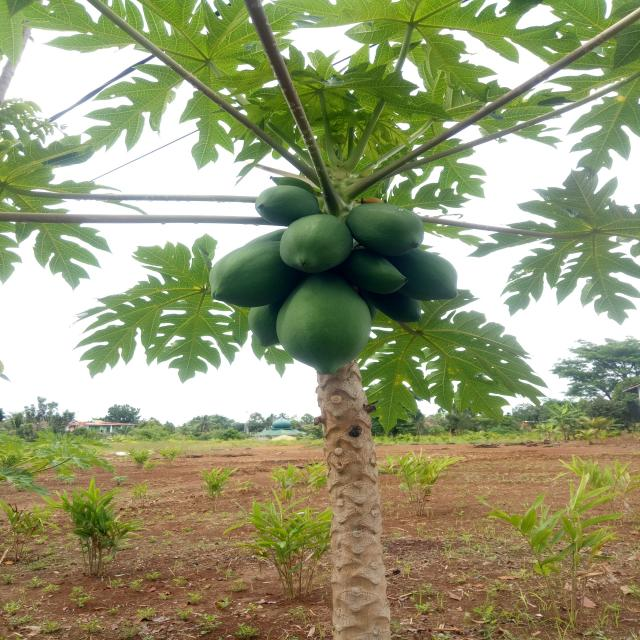Pepaya unrippen: (277, 284, 379, 376), (209, 233, 286, 306), (348, 201, 420, 251), (282, 218, 346, 273), (407, 260, 463, 306)
